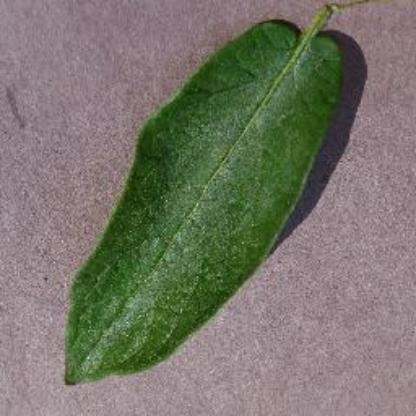Healthy-plant: (60, 4, 348, 384)
